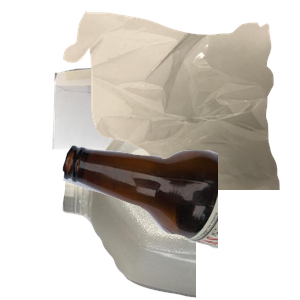glass: (60, 142, 300, 300)
paper: (50, 61, 257, 211)
plastic: (60, 120, 300, 300)
trash: (61, 10, 300, 190)
